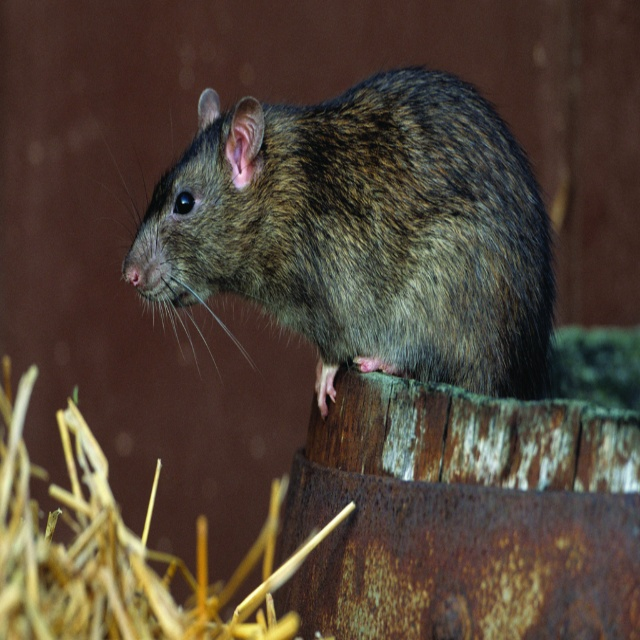Mouse: (121, 72, 551, 411)
